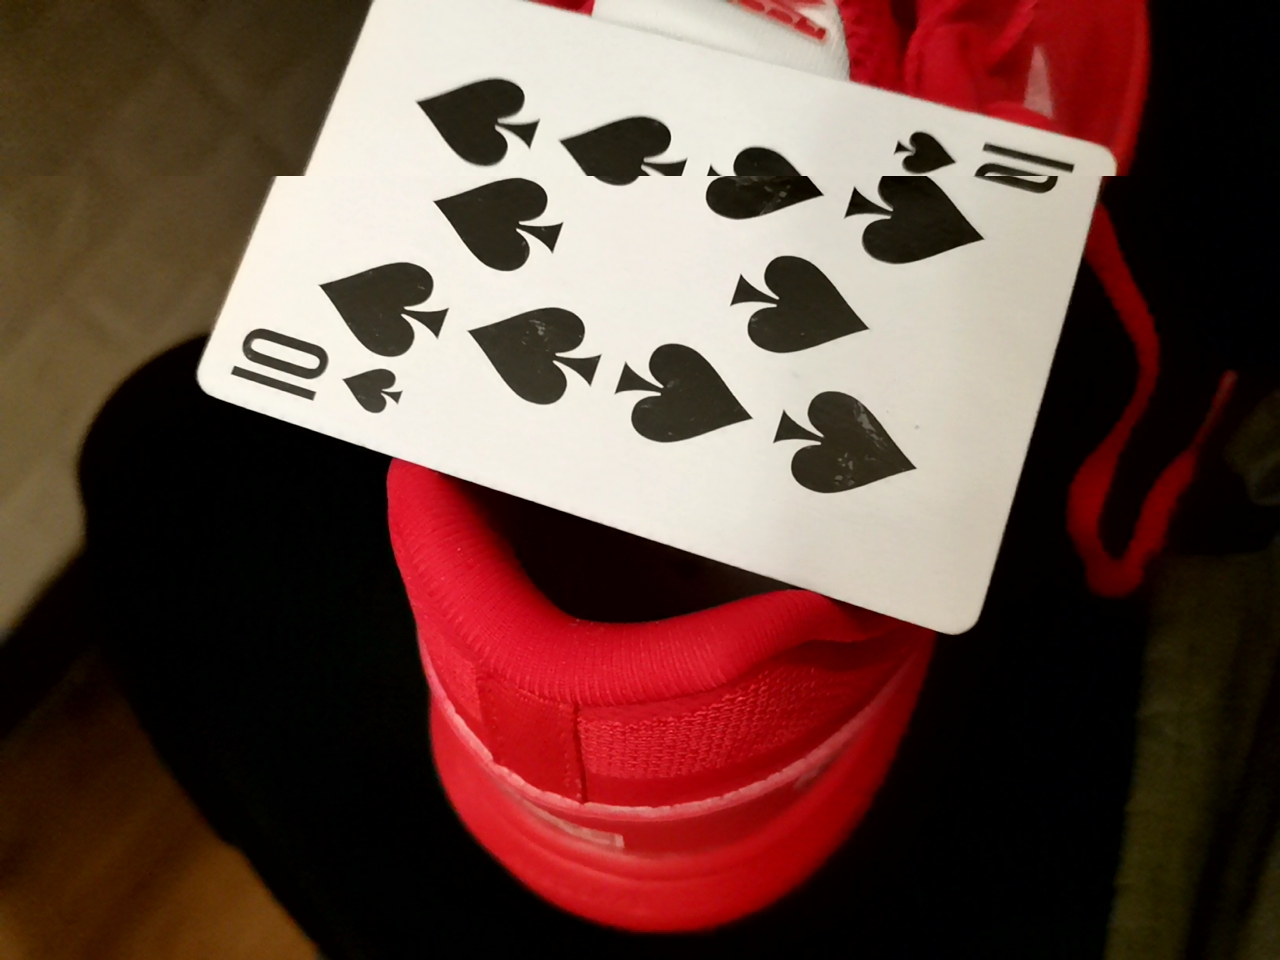ht 10: (188, 10, 1093, 659)
